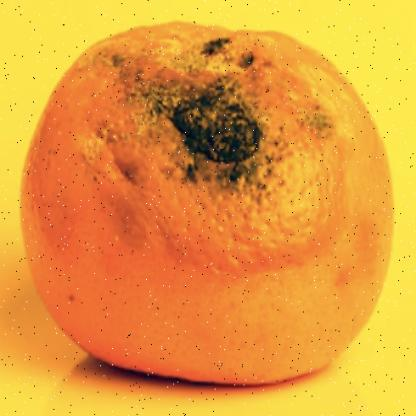rotten: (25, 20, 393, 388)
